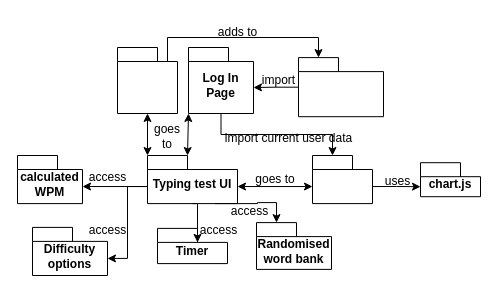
Image size: 498x295. Some labels were removed from this diagram. Each missing label, with the centre of its shape:
"Sign Up Page" goes at pixel 147 80.
"Stats Page" goes at pixel 342 179.
"Stored Accounts In LocalStorage" goes at pixel 341 87.
